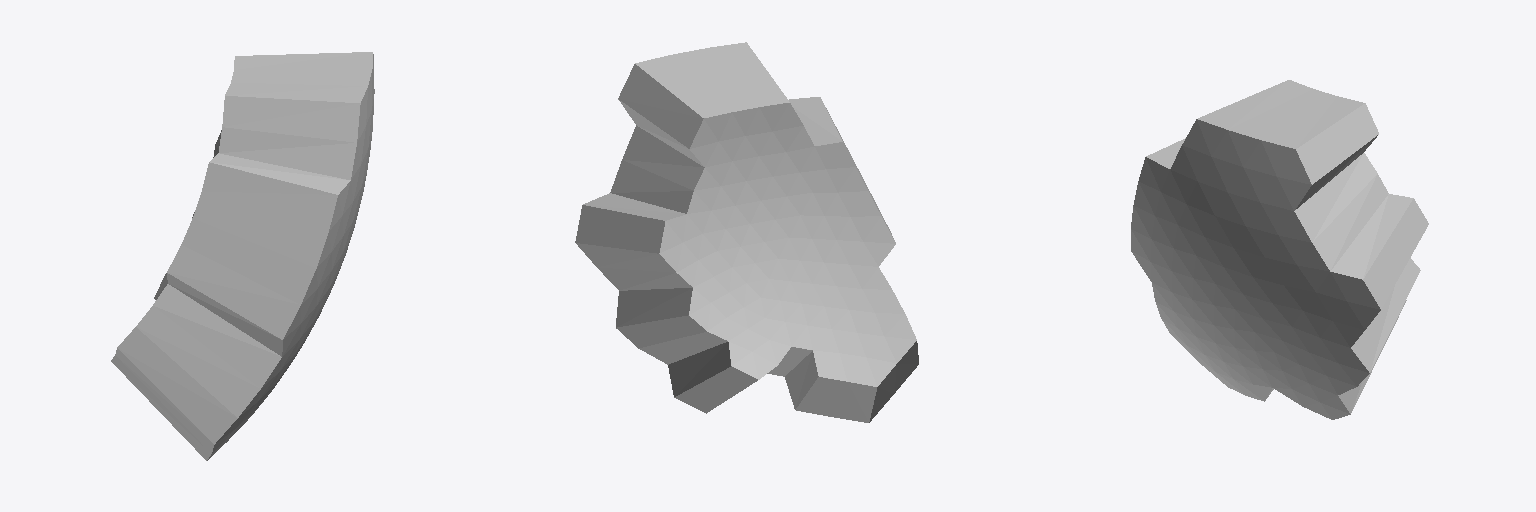
Rendered from clouds_19.obj.
3 views of the same model, side by side, from view 1: azimuth 30°, elevation 25°; view 2: azimuth 150°, elevation 25°; view 3: azimuth 270°, elevation 25° (orthographic).
Visible parts, largest first — view 1: Icosphere.044; view 2: Icosphere.044; view 3: Icosphere.044.
Boxes of the visible parts, <box> form: Icosphere.044: <box>111,52,374,460</box>; Icosphere.044: <box>575,42,918,422</box>; Icosphere.044: <box>1131,80,1428,419</box>.
Size of the model in its own units: 7.19 by 8.01 by 6.45.